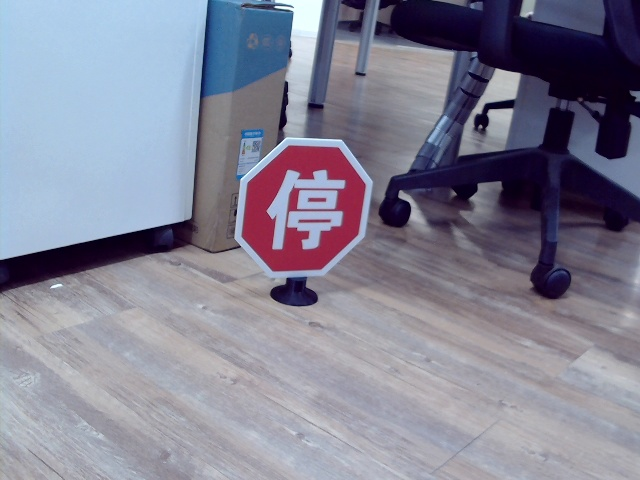stop: (268, 169, 338, 250)
